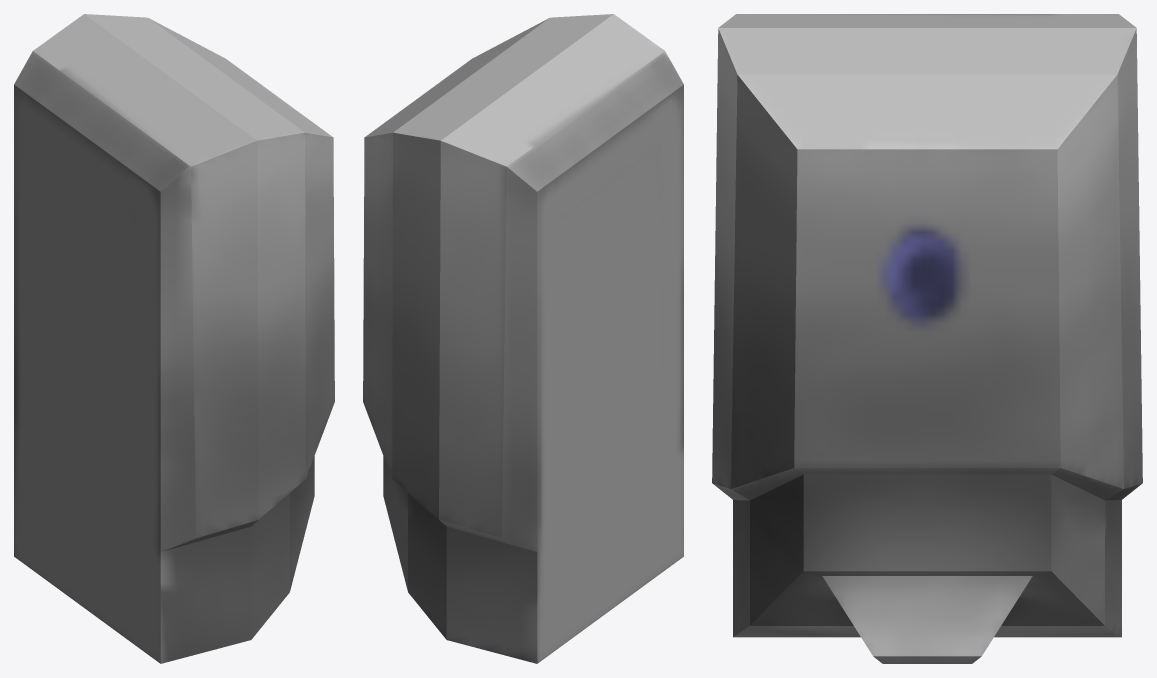
Rendered from soap.fbx.
3 views of the same model, side by side, from view 1: azimuth 30°, elevation 25°; view 2: azimuth 150°, elevation 25°; view 3: azimuth 270°, elevation 25° (orthographic). The views are drawn at different scales.
Parts seen in each view (by area): view 1: soap; view 2: soap; view 3: soap.
Boxes of the visible parts, x1=… form: soap: x1=14, y1=14, x2=334, y2=663; soap: x1=363, y1=14, x2=683, y2=663; soap: x1=712, y1=14, x2=1142, y2=663.
Bounding box in the file's own units: 0.1673 × 0.426 × 0.2684.
1 material, 1 textured.
